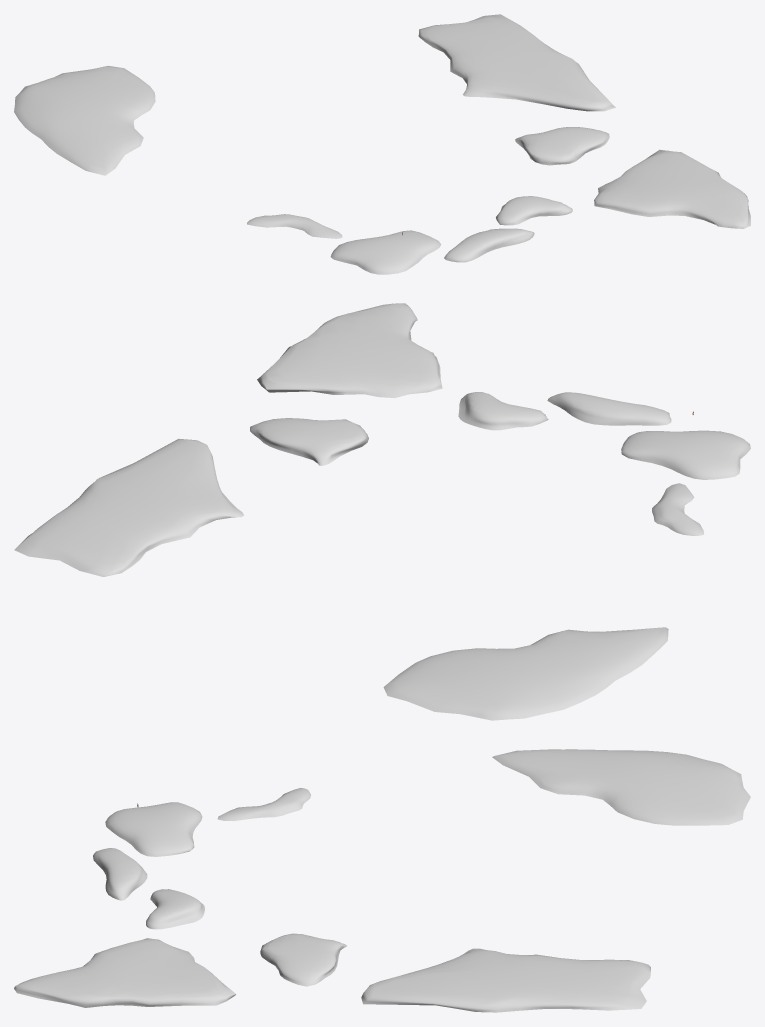
The model's file is Islands_2.fbx.
The picture shows the model from 3 angles, top to bottom: view 1: azimuth 30°, elevation 25°; view 2: azimuth 150°, elevation 25°; view 3: azimuth 270°, elevation 25°; orthographic projection. The views are drawn at different scales.
Parts seen in each view (by area): view 1: Island.002, Island.003, Island.004, Island, Island.005, Island.007, Island.006, Island.001; view 2: Island.002, Island.003, Island.004, Island, Island.005, Island.007, Island.006, Island.001; view 3: Island.003, Island.002, Island.004, Island, Island.005, Island.007, Island.006, Island.001.
Boxes of the visible parts, x1=… form: Island.002: x1=14, y1=66, x2=155, y2=175; Island.003: x1=418, y1=14, x2=615, y2=111; Island.004: x1=594, y1=149, x2=750, y2=228; Island: x1=330, y1=230, x2=441, y2=274; Island.005: x1=515, y1=127, x2=609, y2=165; Island.007: x1=444, y1=228, x2=534, y2=262; Island.006: x1=496, y1=196, x2=572, y2=225; Island.001: x1=247, y1=214, x2=342, y2=238; Island.002: x1=383, y1=627, x2=668, y2=720; Island.003: x1=14, y1=439, x2=244, y2=576; Island.004: x1=257, y1=303, x2=442, y2=398; Island: x1=621, y1=430, x2=750, y2=479; Island.005: x1=250, y1=418, x2=368, y2=465; Island.007: x1=547, y1=392, x2=671, y2=425; Island.006: x1=458, y1=392, x2=548, y2=430; Island.001: x1=652, y1=483, x2=704, y2=535; Island.003: x1=361, y1=948, x2=650, y2=1012; Island.002: x1=492, y1=749, x2=750, y2=825; Island.004: x1=14, y1=938, x2=235, y2=1007; Island: x1=105, y1=802, x2=202, y2=856; Island.005: x1=260, y1=933, x2=346, y2=986; Island.007: x1=93, y1=848, x2=147, y2=900; Island.006: x1=146, y1=889, x2=204, y2=929; Island.001: x1=217, y1=788, x2=310, y2=821.
Size of the model in its own units: 30260 by 1566 by 35844.
